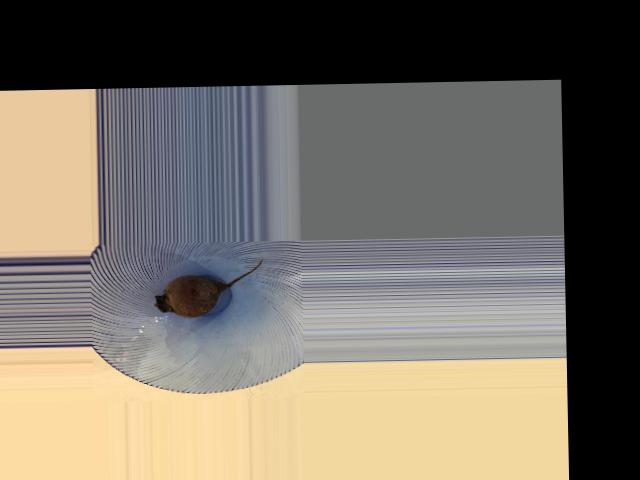beet: (153, 259, 263, 317)
